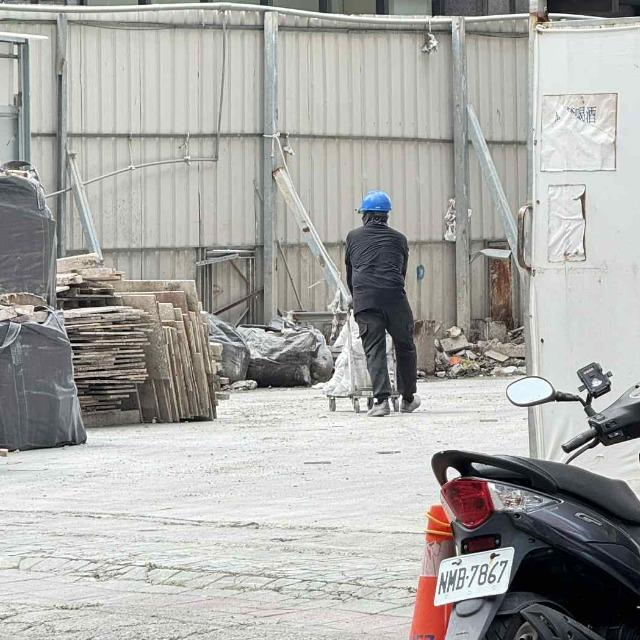Helmet: (353, 188, 395, 228)
NoVest: (341, 225, 412, 311)
